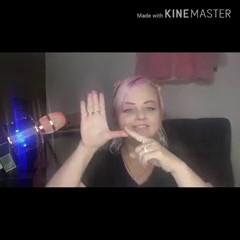A: (74, 90, 177, 179)
